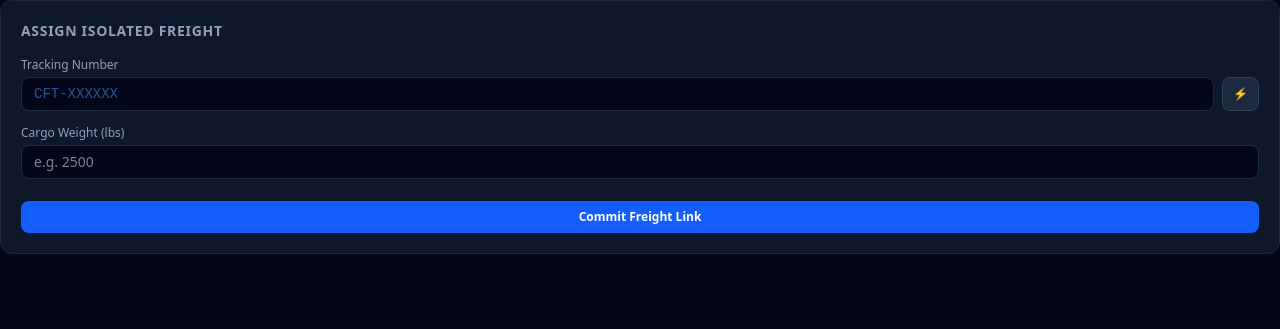
Test: ShipmentForm Component Integration Pipeline › should successfully post valid form data and display the success banner under tenant alpha
# Simulate standard user workflow
Type "CFT-999999" into the field labelled "Tracking Number" at (618,94), box 21,77 -> 1214,111
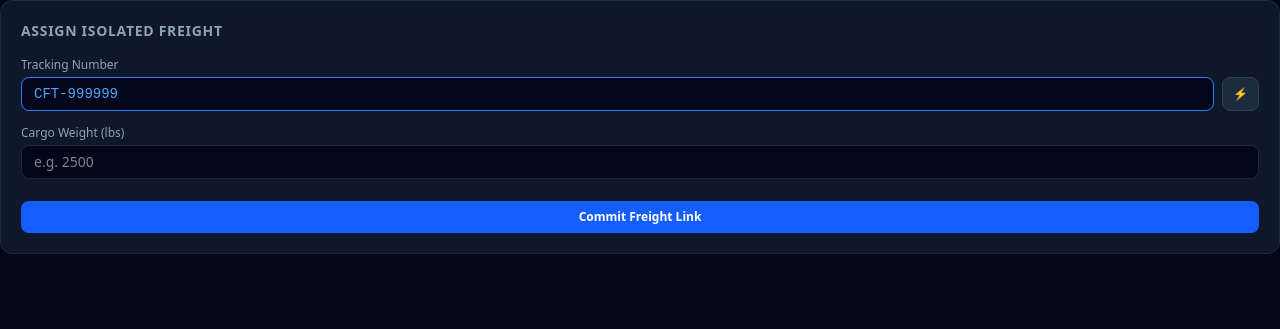
Type "45000" into the number field labelled "Cargo Weight (lbs)" at (640,162), box 21,145 -> 1259,179
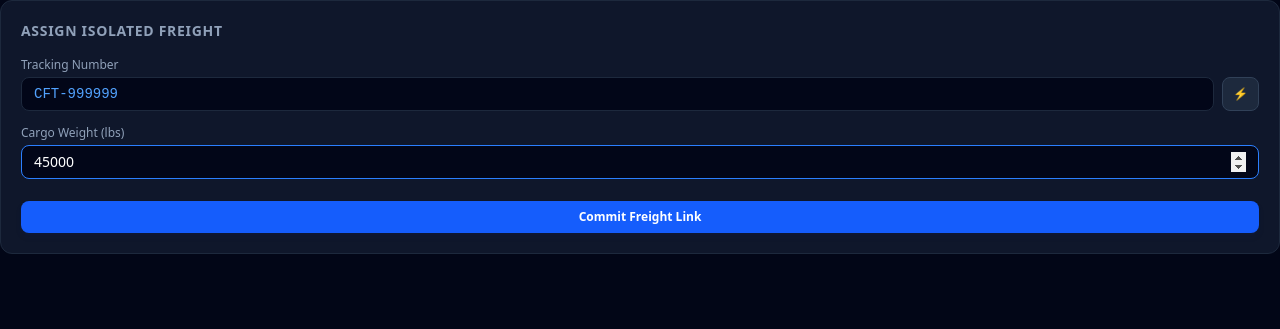
Click the button "Commit Freight Link" at (640,217), box 21,201 -> 1259,233
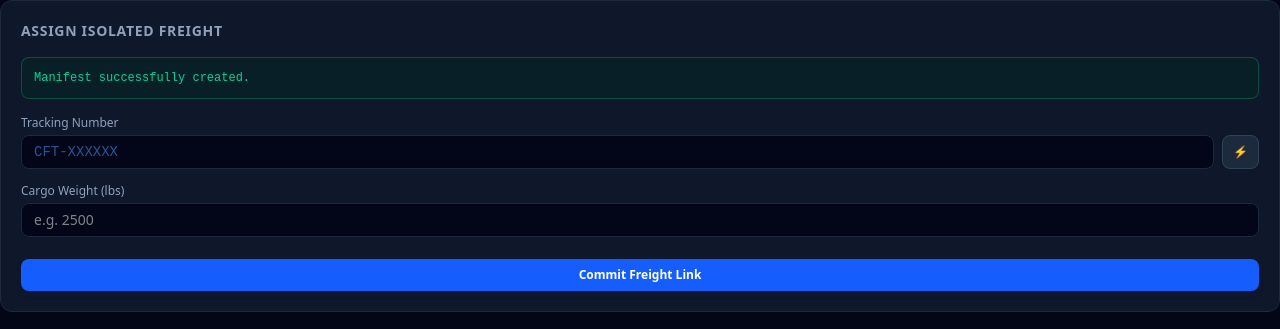
Now the text "Manifest successfully created." is shown, box 21,57 -> 1259,99
Now the field labelled "Tracking Number" is empty, box 21,135 -> 1214,169
Now the number field labelled "Cargo Weight (lbs)" is not empty, box 21,203 -> 1259,237
